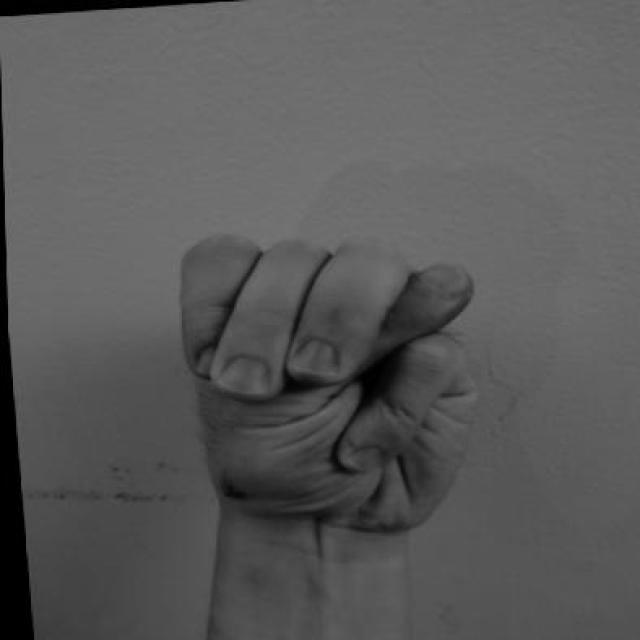M: (155, 209, 500, 547)
